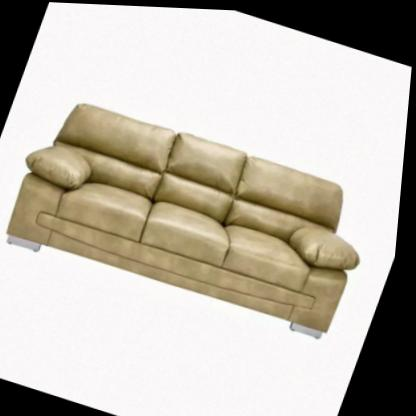Sofa: (0, 90, 388, 333)
